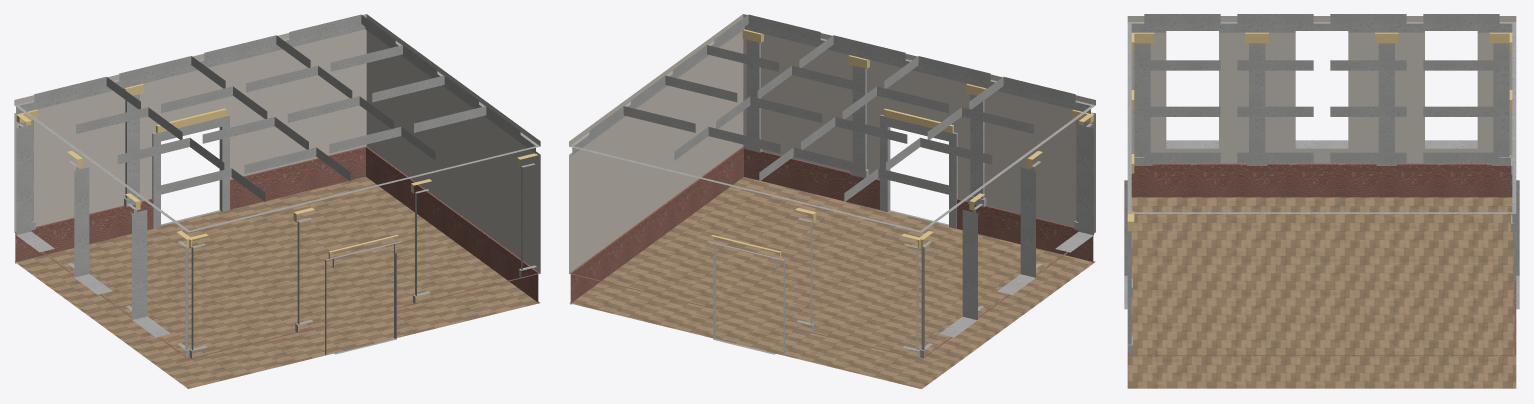
File: world-engine.glb
3 renders of one model, left to right at view 1: azimuth 30°, elevation 25°; view 2: azimuth 150°, elevation 25°; view 3: azimuth 270°, elevation 25°, orthographic. The views are drawn at different scales.
Visible parts, largest first — view 1: world-engine; view 2: world-engine; view 3: world-engine.
Boxes of the visible parts, left/top/right/bottom form: world-engine: left=14, top=14, right=540, bottom=388; world-engine: left=569, top=14, right=1095, bottom=389; world-engine: left=1124, top=14, right=1519, bottom=388.
Size of the model in its own units: 14.4 by 6.4 by 12.
7 materials, 4 textured.
